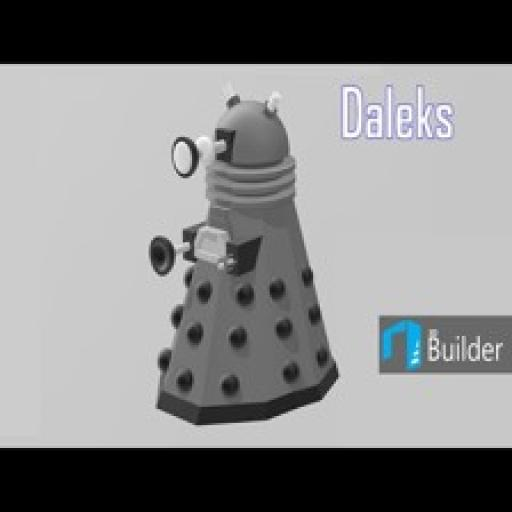dalek: (145, 80, 344, 427)
